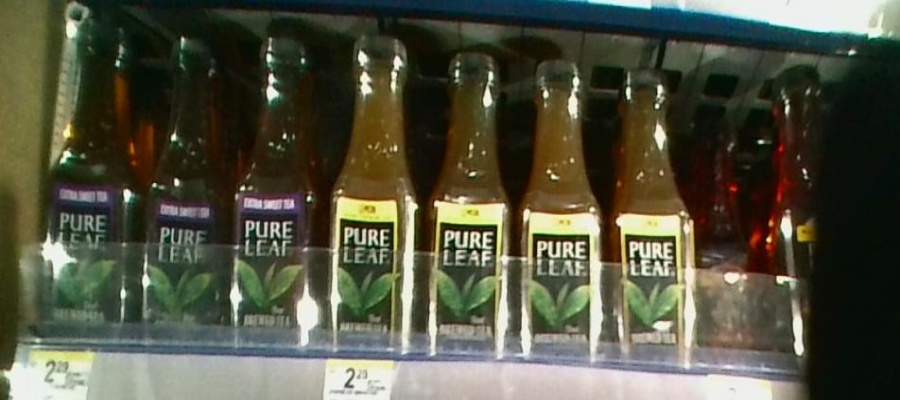bottle: (323, 27, 418, 358), (512, 52, 608, 367), (45, 17, 136, 341), (421, 33, 511, 360), (609, 58, 700, 371), (228, 40, 320, 346), (140, 31, 223, 343), (703, 94, 758, 359)
